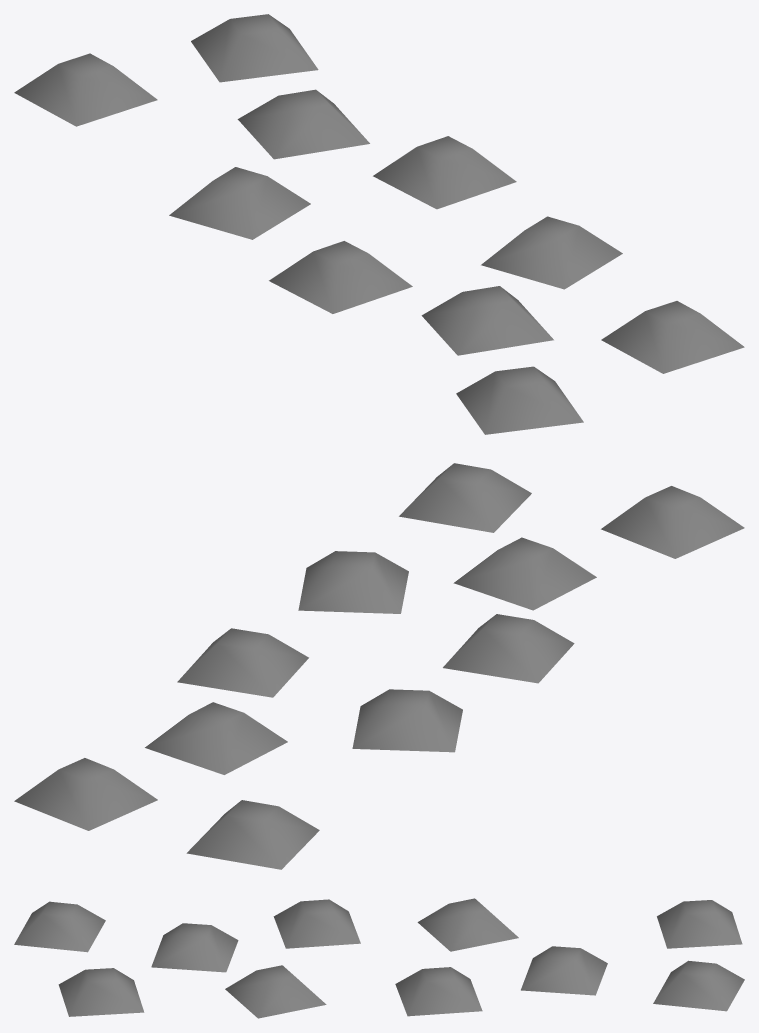
Rendered from Load_cont_cast_Sm.glb.
The picture shows the model from 3 angles, top to bottom: view 1: azimuth 30°, elevation 25°; view 2: azimuth 150°, elevation 25°; view 3: azimuth 270°, elevation 25°; orthographic projection. The views are drawn at different scales.
Parts seen in each view (by area): view 1: Load_cont_cast_Sm; view 2: Load_cont_cast_Sm; view 3: Load_cont_cast_Sm.
Boxes of the visible parts, left/top/right/bottom form: Load_cont_cast_Sm: left=14, top=14, right=744, bottom=434; Load_cont_cast_Sm: left=14, top=463, right=744, bottom=869; Load_cont_cast_Sm: left=14, top=898, right=744, bottom=1018.
Size of the model in its own units: 1.71 by 0.1698 by 4.81.
Materials: 1 (1 with a texture image).
